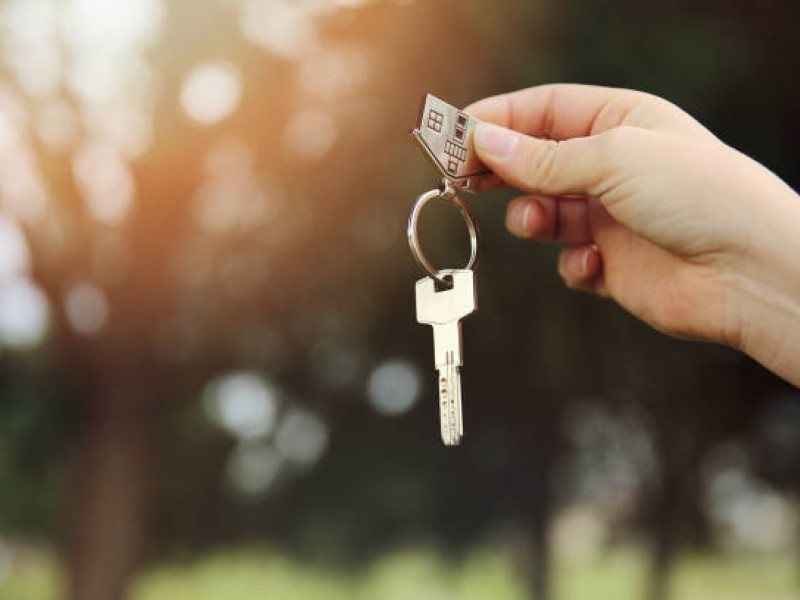key: (412, 264, 479, 448)
